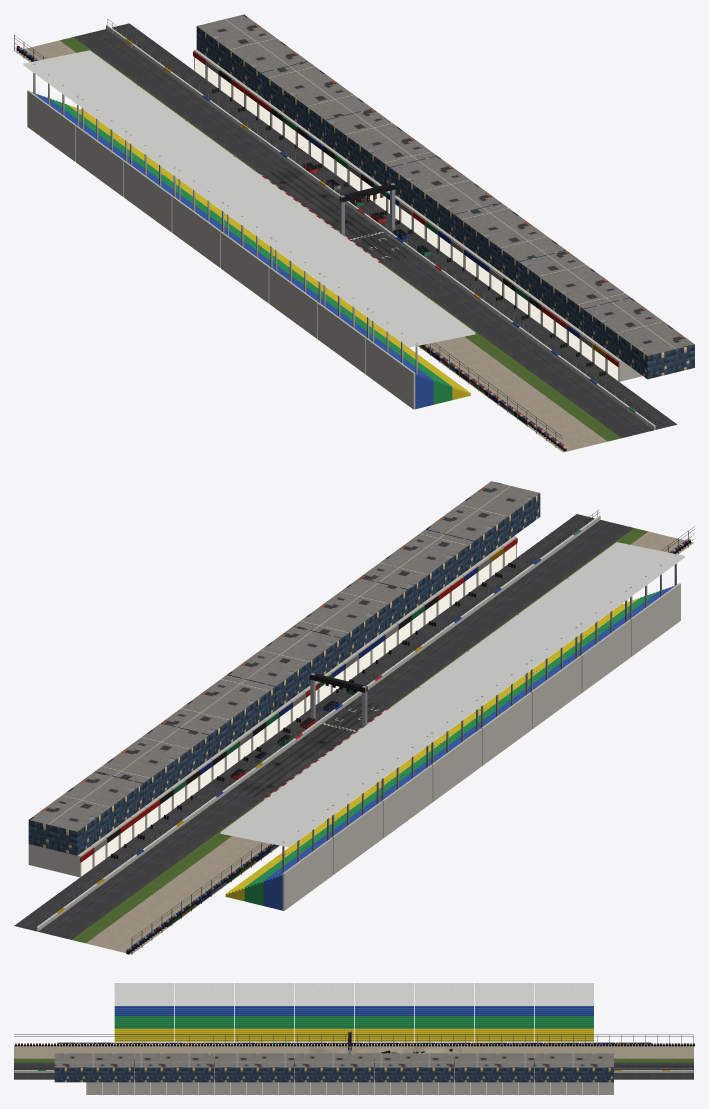
Rendered from lugar-interlagos.glb.
The picture shows the model from 3 angles, top to bottom: view 1: azimuth 30°, elevation 25°; view 2: azimuth 150°, elevation 25°; view 3: azimuth 270°, elevation 25°; orthographic projection. The views are drawn at different scales.
Visible parts, largest first — view 1: luzE, luzG-cerca, luzS-pista, vert-cerca, planoE; view 2: luzE, luzG-cerca, luzS-pista, vert-cerca, planoE; view 3: luzE, luzG-cerca, vert-cerca, luzS-pista.
Part boxes in pixels (left/top/right/bottom): luzE: left=23, top=14, right=694, bottom=409; luzG-cerca: left=15, top=23, right=676, bottom=452; luzS-pista: left=106, top=24, right=655, bottom=430; vert-cerca: left=14, top=19, right=654, bottom=451; planoE: left=194, top=57, right=618, bottom=380; luzE: left=28, top=481, right=684, bottom=910; luzG-cerca: left=14, top=514, right=693, bottom=954; luzS-pista: left=36, top=515, right=600, bottom=931; vert-cerca: left=36, top=509, right=694, bottom=954; planoE: left=81, top=544, right=515, bottom=876; luzE: left=54, top=983, right=613, bottom=1094; luzG-cerca: left=14, top=1045, right=693, bottom=1079; vert-cerca: left=14, top=985, right=694, bottom=1069; luzS-pista: left=14, top=1031, right=693, bottom=1079.
Size of the model in its own units: 85 by 24.18 by 341.
25 materials, 11 textured.
